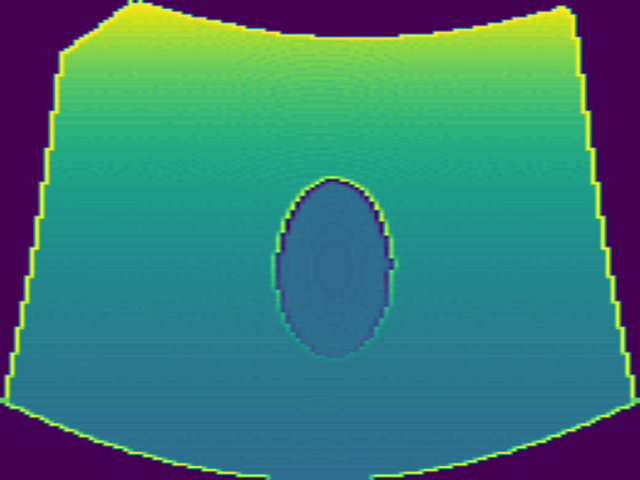sphere: (271, 175, 397, 360)
